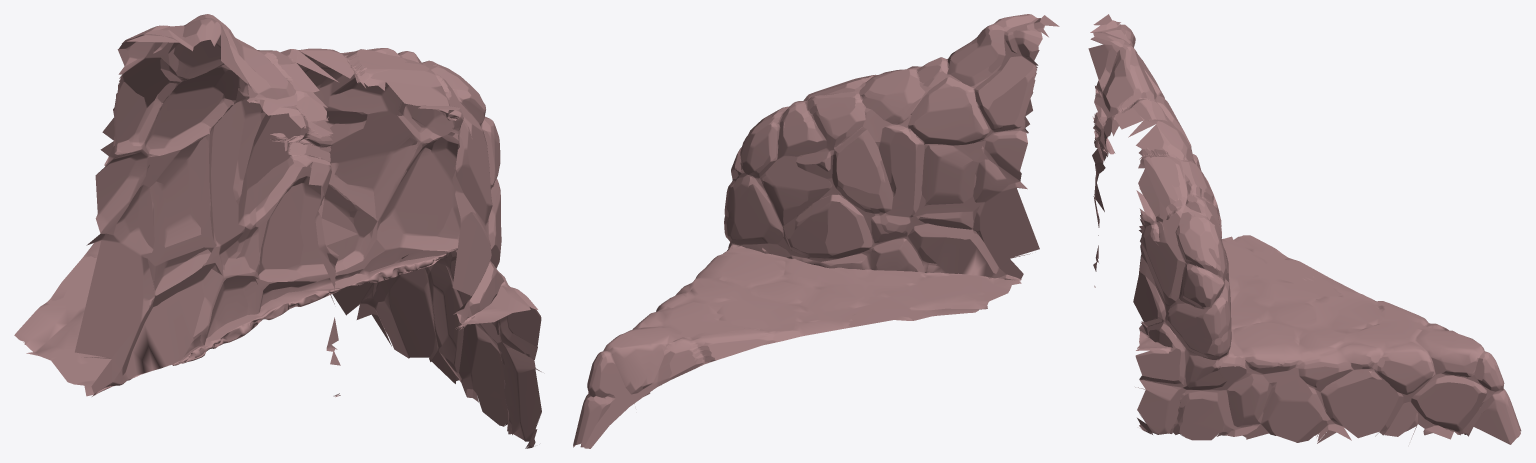
Rendered from cliff_area_2.fbx_Cliff_Area_2_003LODs.fbx.
The picture shows the model from 3 angles, left to right: view 1: azimuth 30°, elevation 25°; view 2: azimuth 150°, elevation 25°; view 3: azimuth 270°, elevation 25°; orthographic projection. The views are drawn at different scales.
Parts seen in each view (by area): view 1: Cliff Area 2.003_LOD0; view 2: Cliff Area 2.003_LOD0; view 3: Cliff Area 2.003_LOD0.
Boxes of the visible parts, bbox=[...] form: Cliff Area 2.003_LOD0: bbox=[14, 14, 541, 448]; Cliff Area 2.003_LOD0: bbox=[573, 14, 1059, 448]; Cliff Area 2.003_LOD0: bbox=[1088, 14, 1521, 444].
Size of what is drawn, in the model's own units: 4843 by 5548 by 6894.
